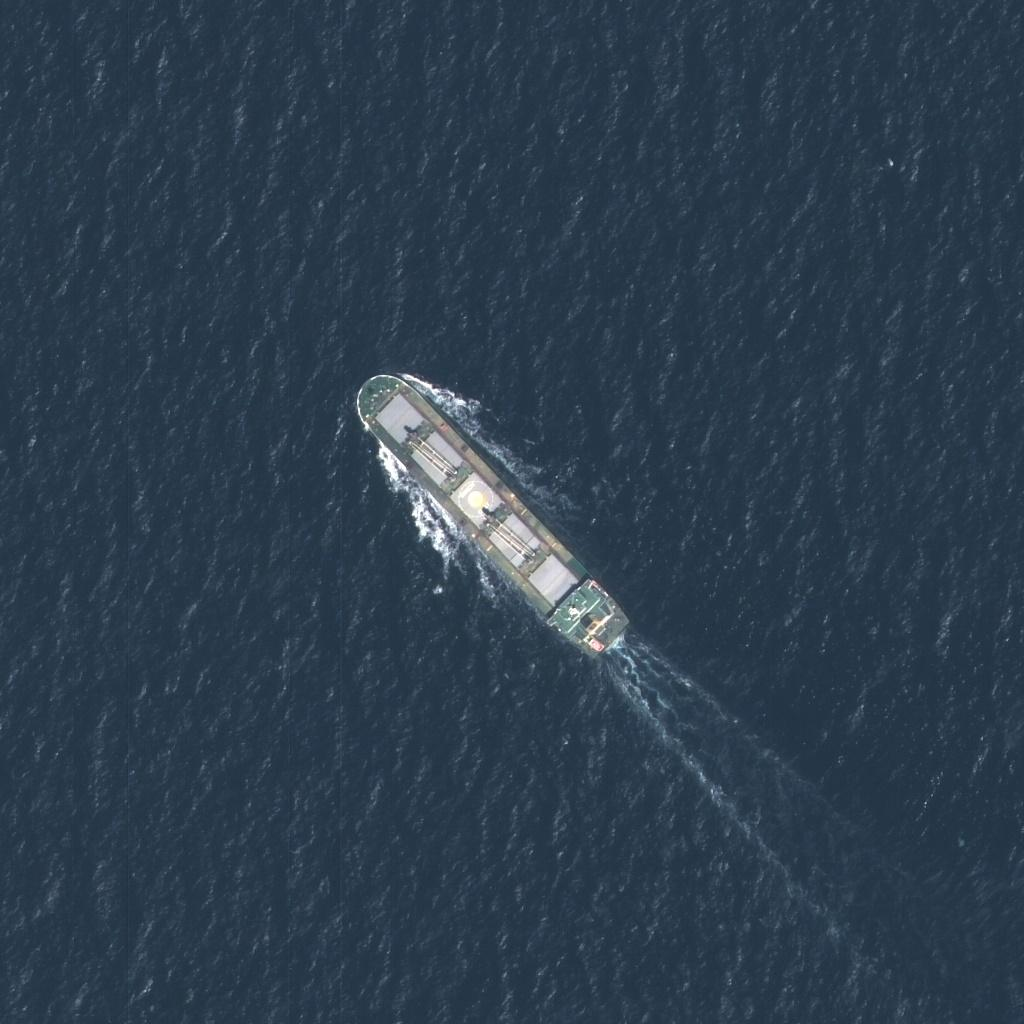ship: (352, 369, 635, 663)
